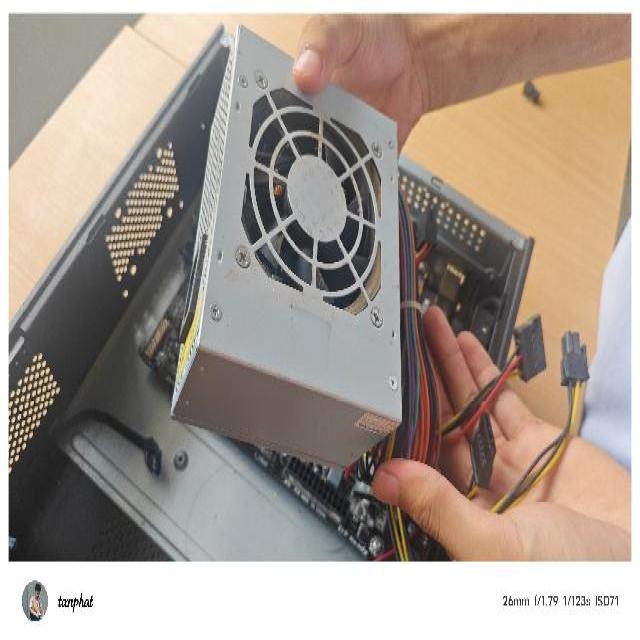PSU: (168, 19, 404, 470)
